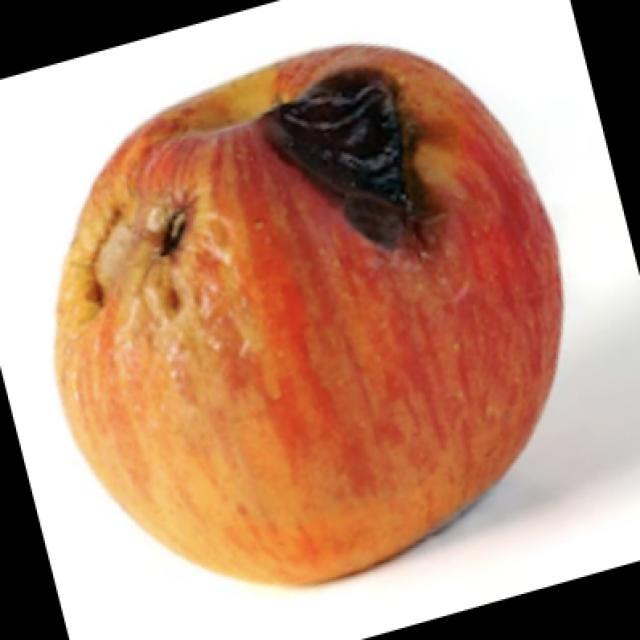Rotten: (45, 36, 570, 586)
